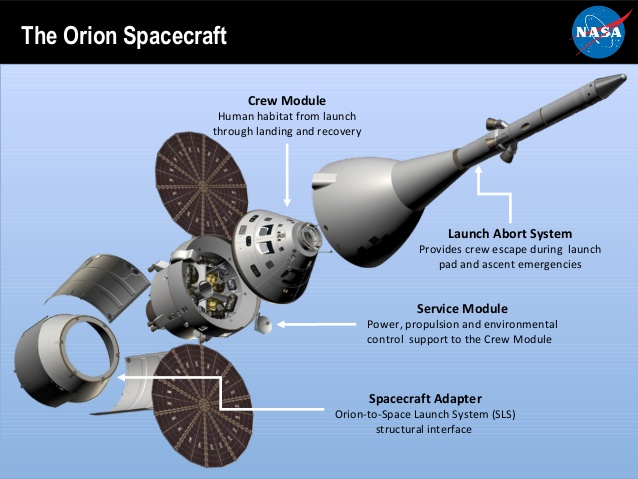NASA: (570, 1, 633, 62)
